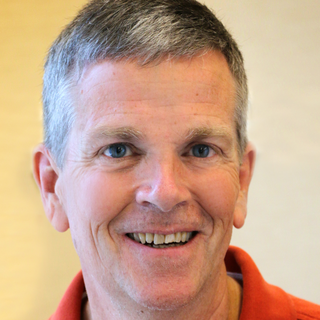eye: (179, 138, 225, 165), (95, 138, 142, 164)
